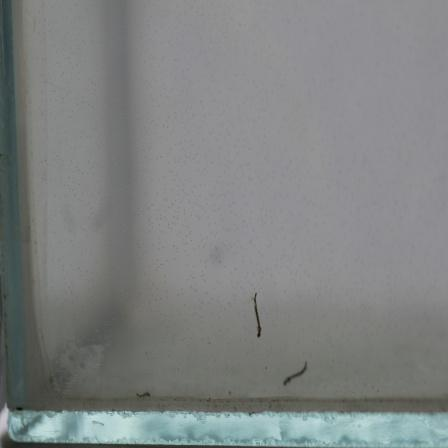Jentik-Nyamuk: (280, 359, 312, 387), (253, 288, 265, 343)
